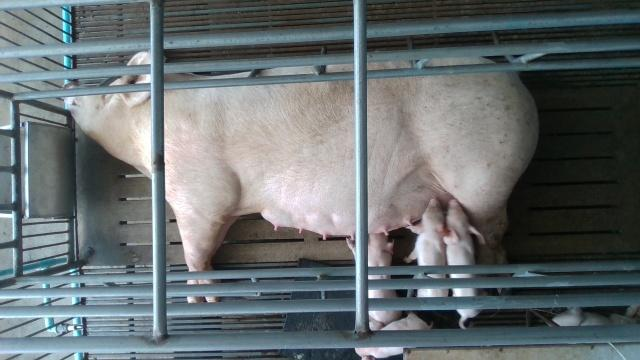piglet: (347, 233, 403, 323), (447, 201, 486, 326), (409, 198, 450, 298), (353, 314, 435, 360), (550, 303, 640, 326)
sow-sleep-lactate: (65, 51, 538, 302)
